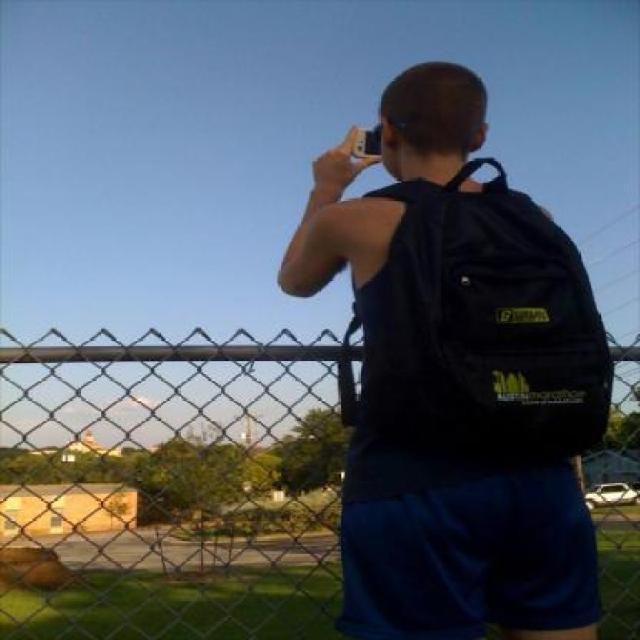backpack: (366, 176, 614, 470)
